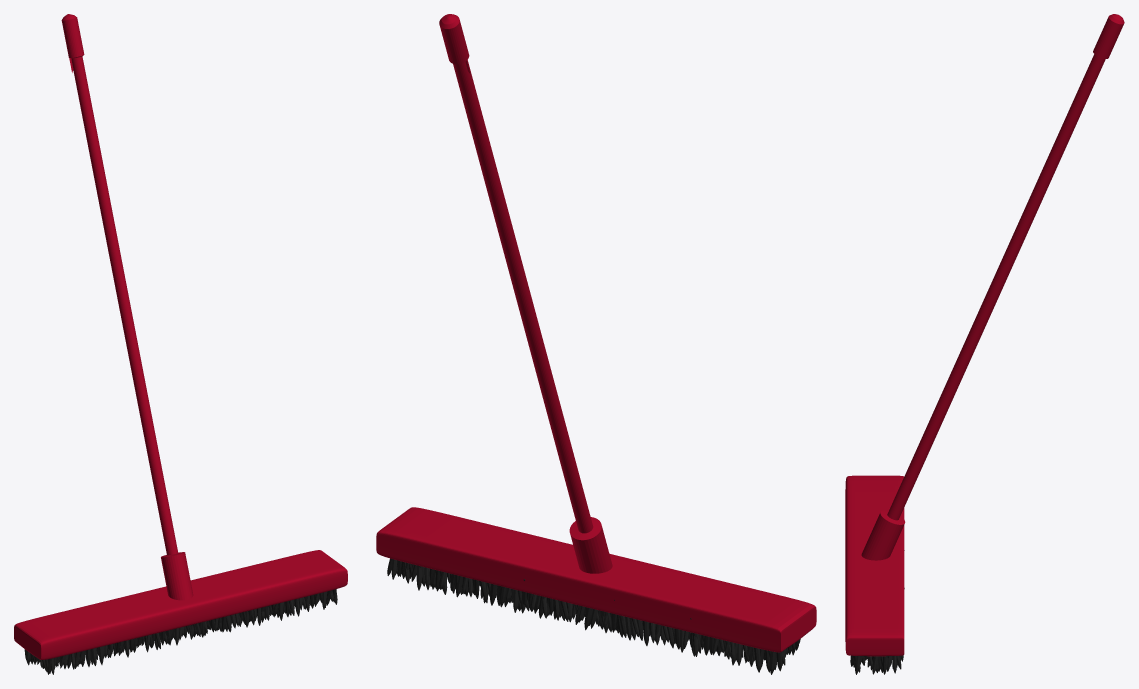
File: broom.fbx
3 views of the same model, side by side, from view 1: azimuth 30°, elevation 25°; view 2: azimuth 150°, elevation 25°; view 3: azimuth 270°, elevation 25° (orthographic). The views are drawn at different scales.
Parts seen in each view (by area): view 1: Cube, Cylinder; view 2: Cube, Cylinder; view 3: Cube, Cylinder.
Boxes of the visible parts, x1,y1,x2,y2 form: Cube: (14, 550, 347, 659); Cylinder: (61, 14, 193, 600); Cube: (376, 507, 816, 652); Cylinder: (439, 14, 612, 573); Cube: (845, 475, 904, 656); Cylinder: (861, 14, 1124, 560).
Bounding box in the file's own units: 594 × 997 × 432.
